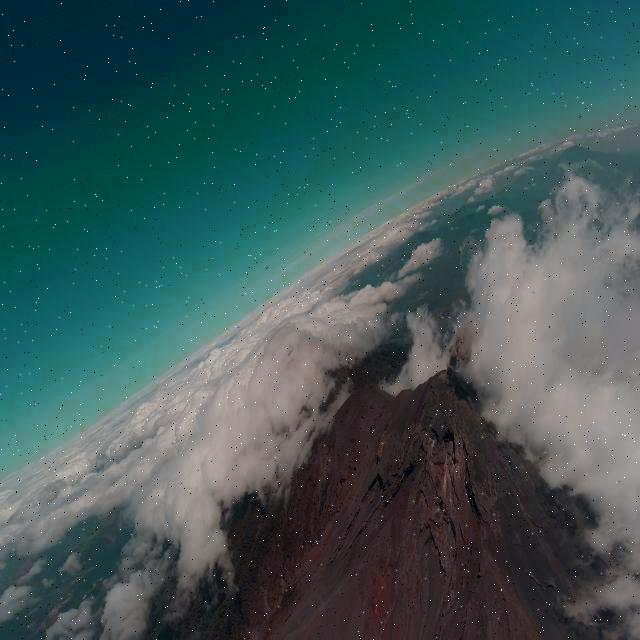Plume: (442, 312, 482, 380)
Summit: (352, 366, 518, 580)
